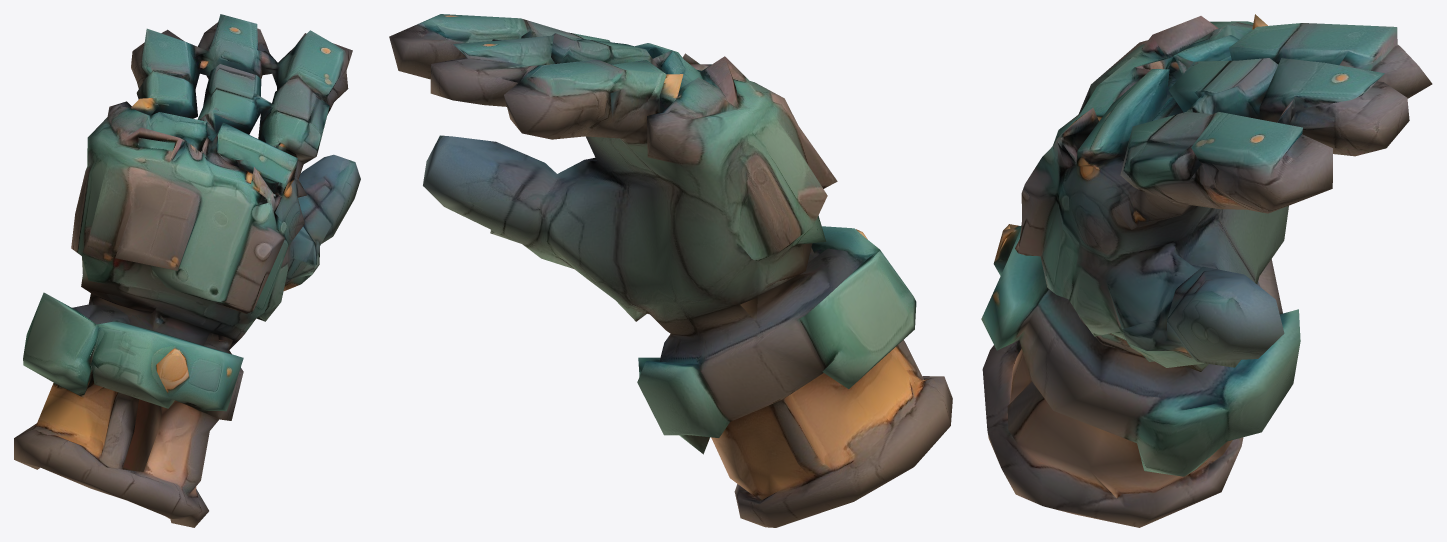
The model's file is weapon_hand_tertiary_1500_raw.glb.
3 renders of one model, left to right at view 1: azimuth 30°, elevation 25°; view 2: azimuth 150°, elevation 25°; view 3: azimuth 270°, elevation 25°, orthographic. The views are drawn at different scales.
Parts seen in each view (by area): view 1: tripo_node_db2fd606-46cb-4a52-97b2-c5ef5b5f21dc; view 2: tripo_node_db2fd606-46cb-4a52-97b2-c5ef5b5f21dc; view 3: tripo_node_db2fd606-46cb-4a52-97b2-c5ef5b5f21dc.
Boxes of the visible parts, box(x1,y1,x2,y2) form: tripo_node_db2fd606-46cb-4a52-97b2-c5ef5b5f21dc: box(14, 14, 360, 527); tripo_node_db2fd606-46cb-4a52-97b2-c5ef5b5f21dc: box(389, 14, 952, 527); tripo_node_db2fd606-46cb-4a52-97b2-c5ef5b5f21dc: box(981, 14, 1432, 527).
Size of the model in its own units: 0.9864 by 0.9733 by 0.7206.
1 material, 1 textured.
